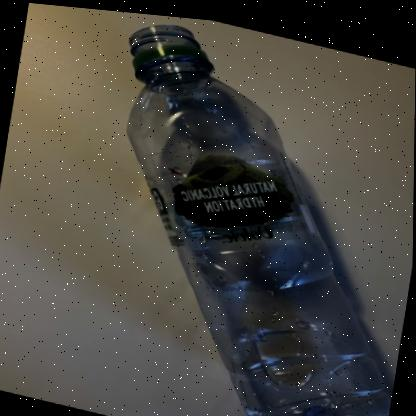Waste: (126, 19, 391, 416)
